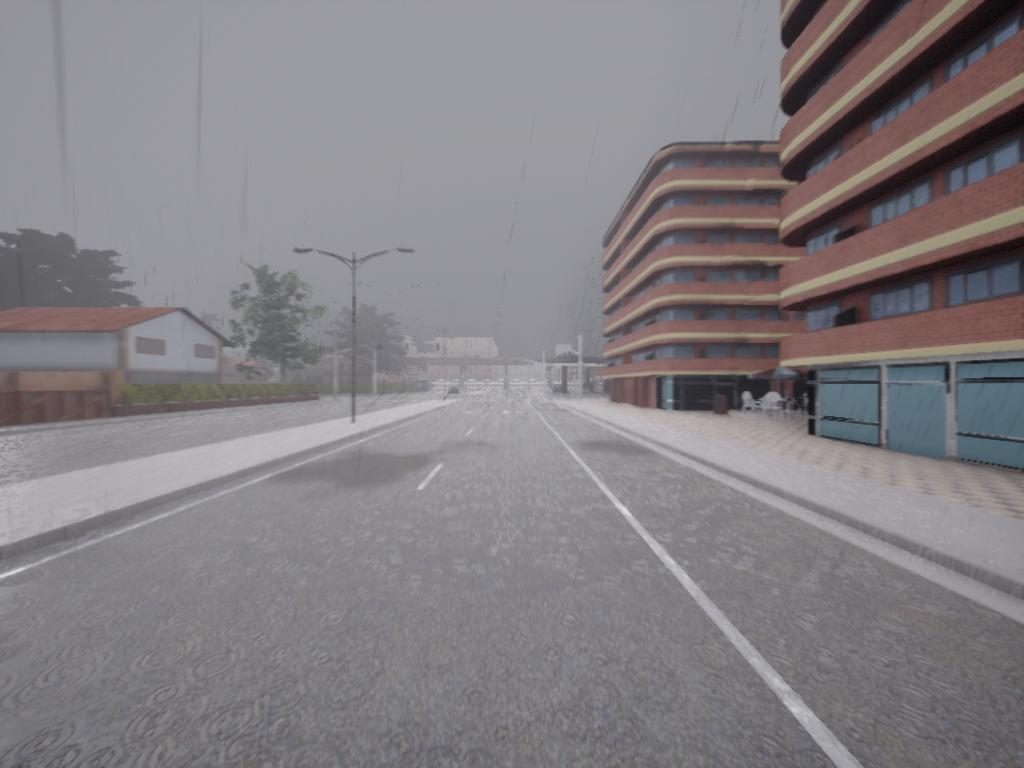traffic_light: (378, 345, 384, 353), (406, 344, 410, 354), (437, 344, 440, 354)
